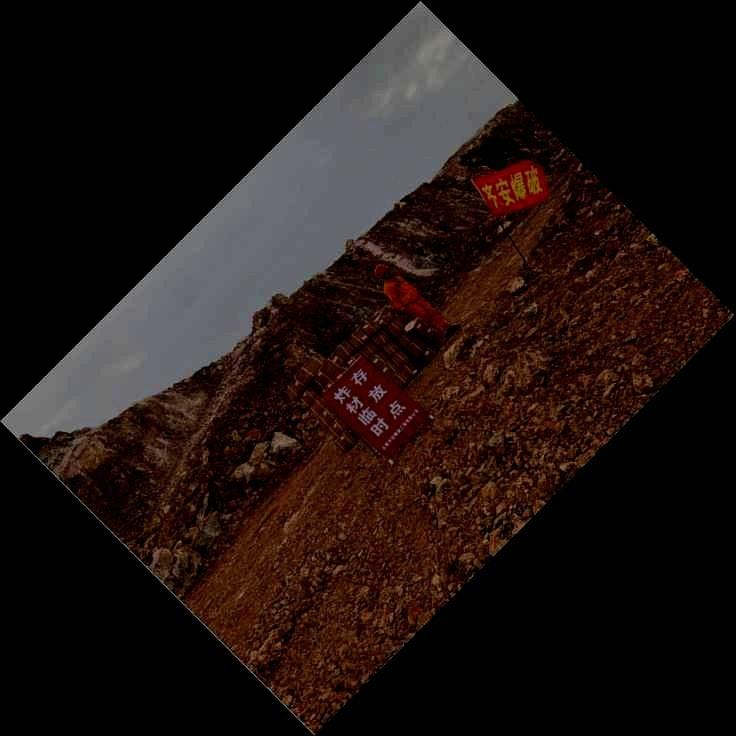helmet: (373, 263, 396, 282)
